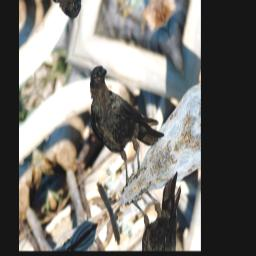Crow: (75, 32, 170, 200)
